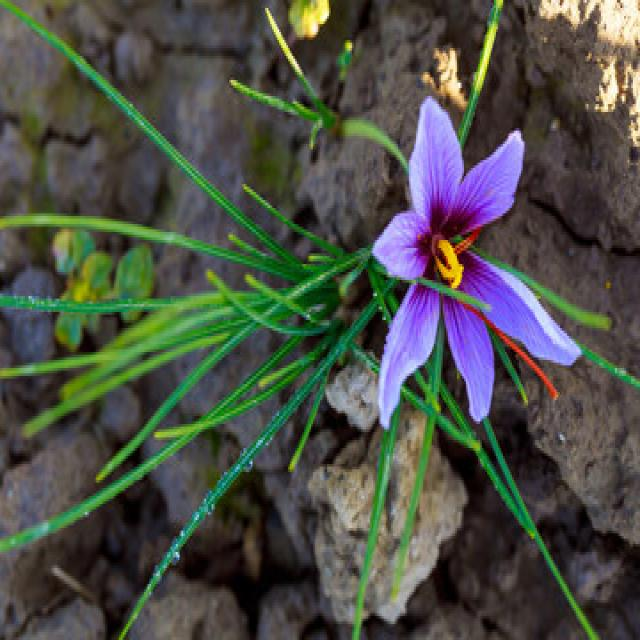saffron open: (372, 98, 581, 427)
